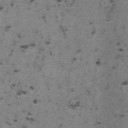oxide scale of temperature system: (0, 0, 128, 86), (5, 68, 38, 128), (70, 100, 80, 110), (110, 0, 116, 6), (96, 121, 102, 126), (120, 114, 126, 118)
